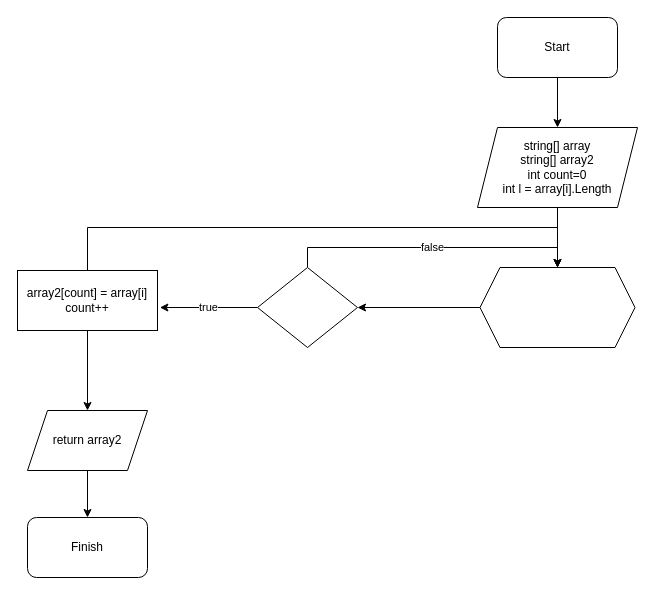
Some shapes in this 655 by 595 pixel diagram are drawn without their labels. Each missing label, with the box of its shape:
for(int i=0;i<array.Length;i++): (479, 266, 635, 348)
l<=3: (256, 266, 358, 348)
